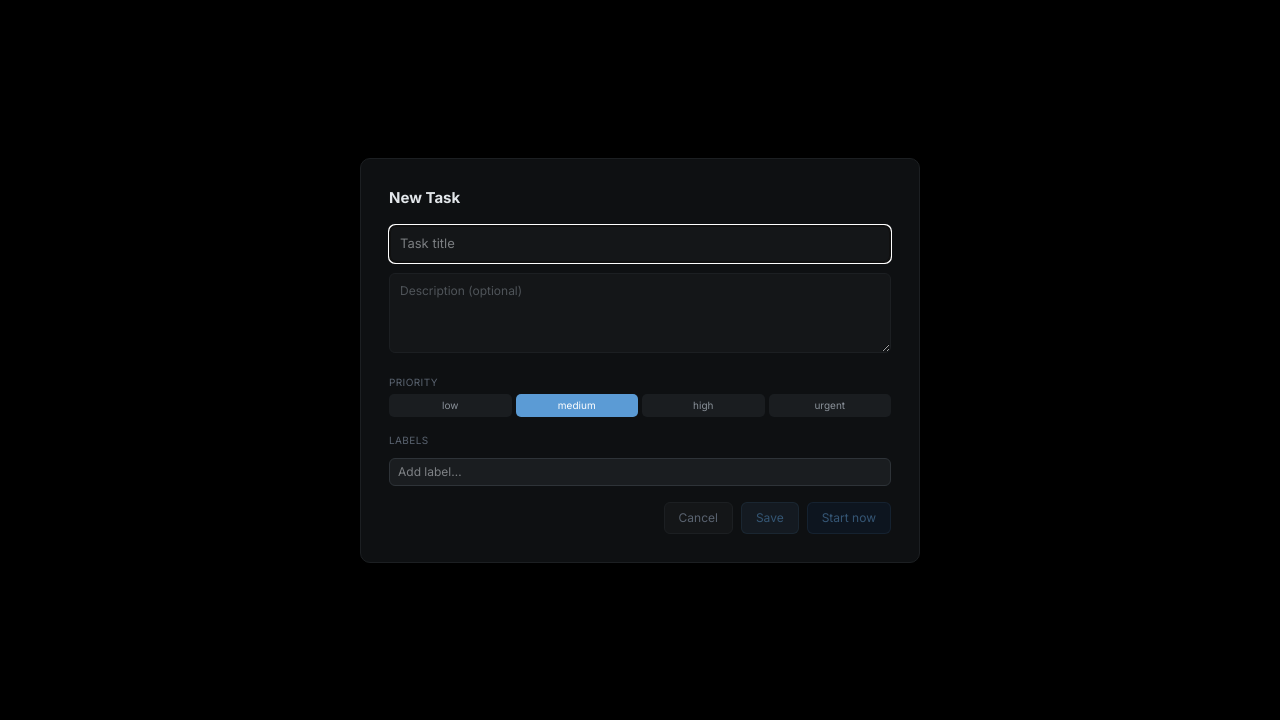
Test case: CreateTaskModal › adds label on Enter and shows tag
Type "backend" into the field with placeholder "Add label…" at (640, 472), box left=389, top=458, right=891, bottom=486
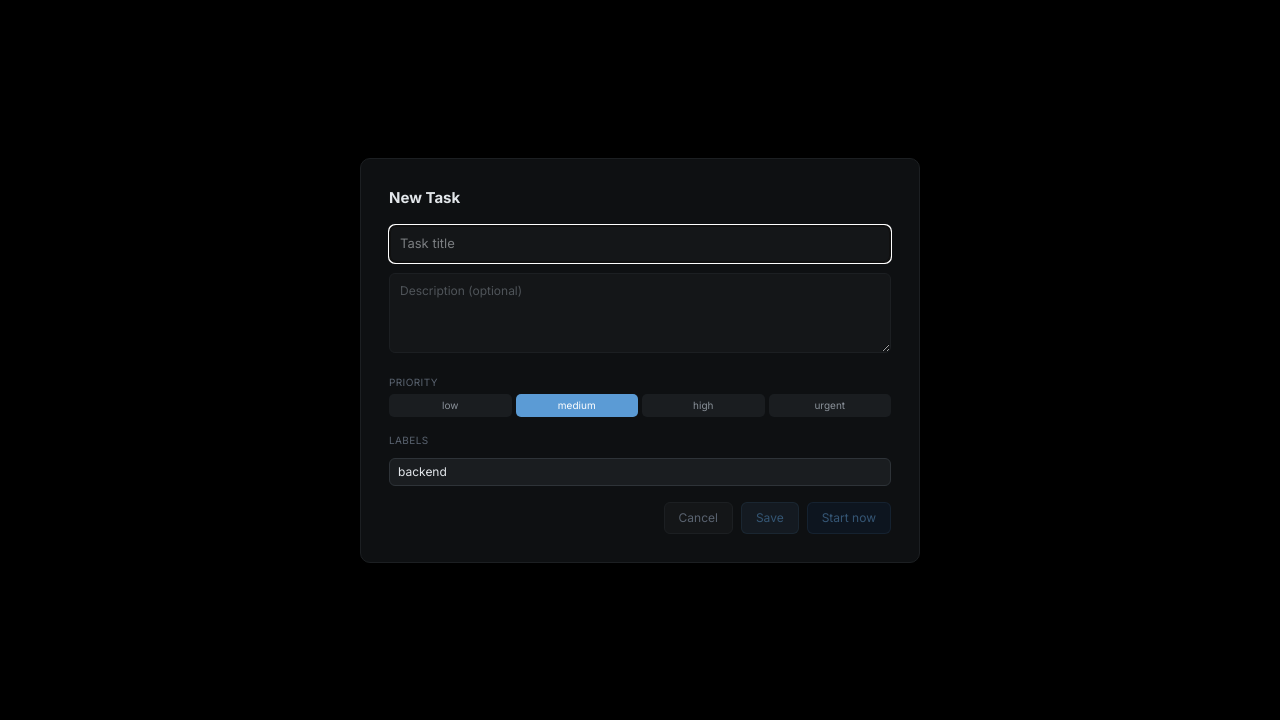
Press Enter in the field with placeholder "Add label…", box left=389, top=458, right=891, bottom=486
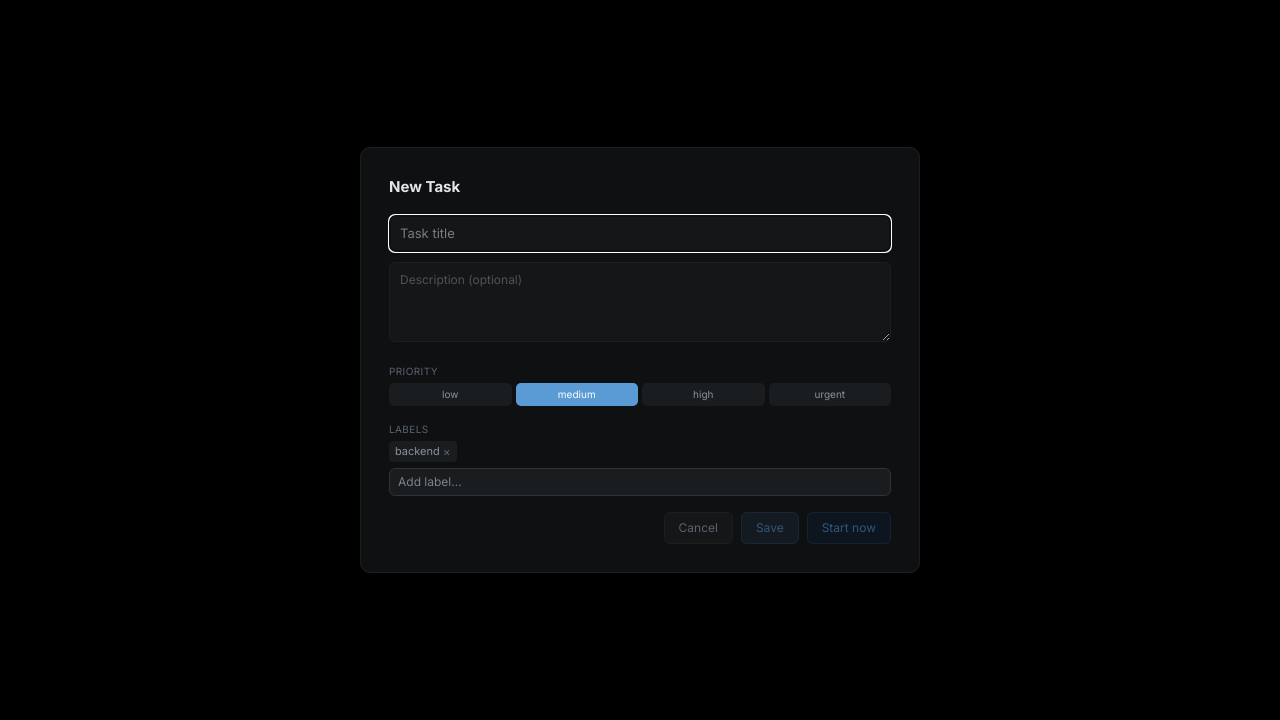
Expected: the text "backend" is shown, left=395, top=444, right=440, bottom=458
